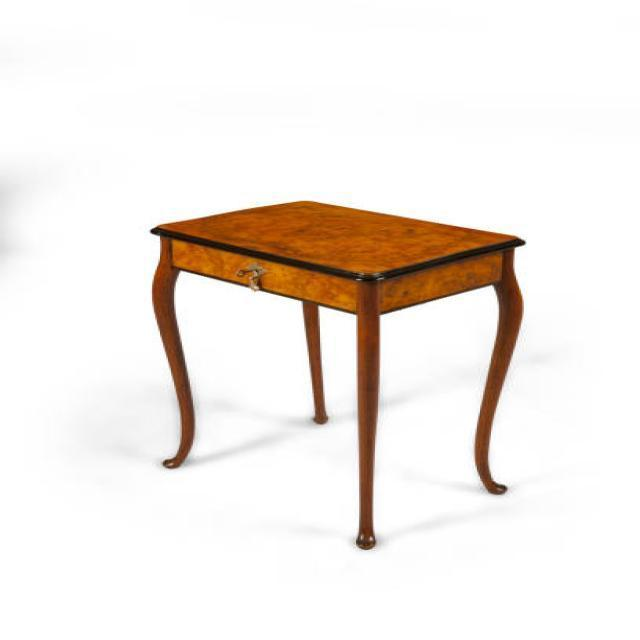table: (148, 198, 528, 550)
